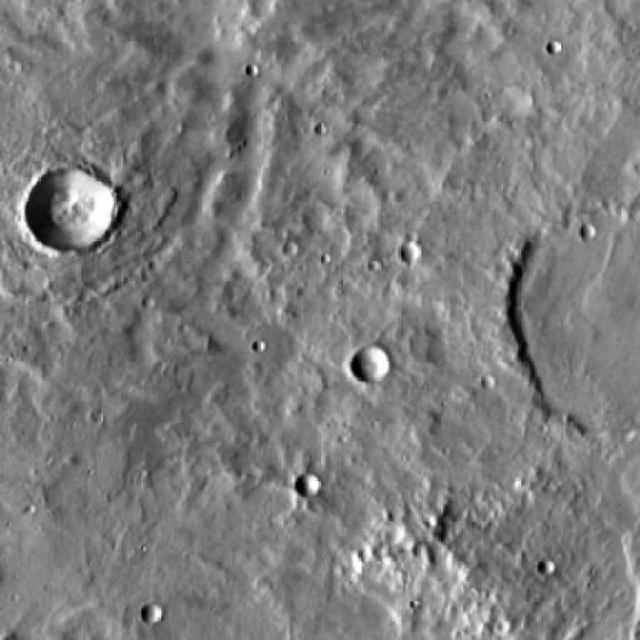crater: (517, 216, 640, 438), (28, 164, 115, 248), (352, 346, 390, 383), (298, 474, 320, 498), (398, 242, 420, 264), (141, 605, 162, 626), (538, 562, 557, 580)
